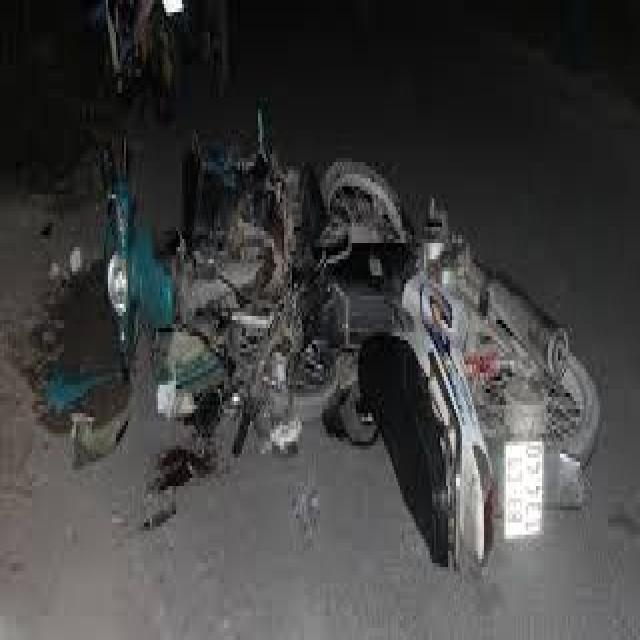accident: (62, 87, 617, 595)
